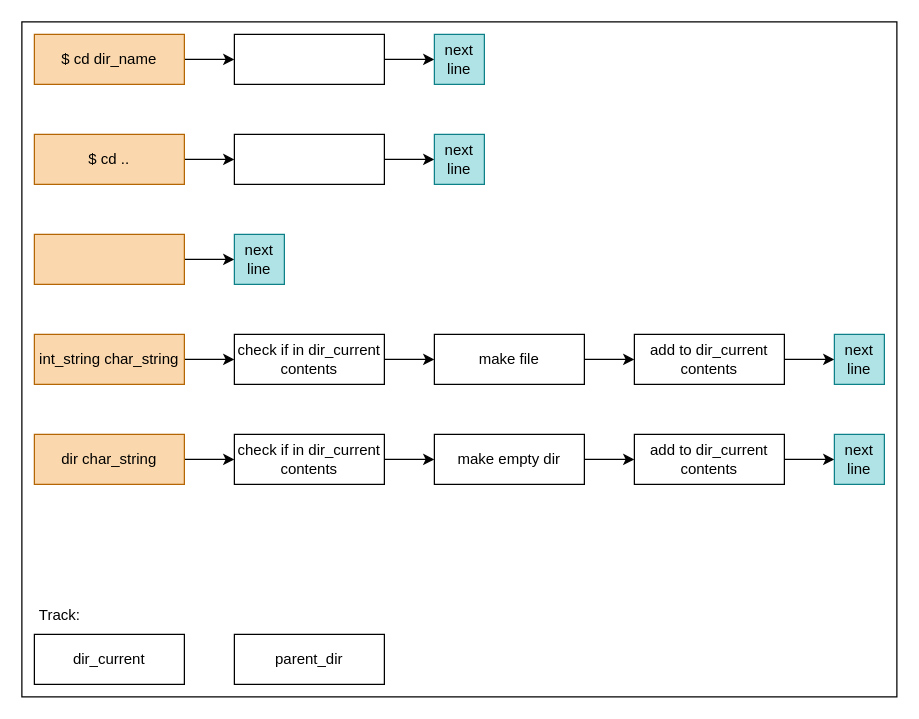
This 919x719 diagram has some shape labels left out. The shapes that lost their labels are listed below. From the top down, each one's centre as x and y in pixels, then its label:
the point at 308,58: dir_current = dir in contents with dir_name
the point at 308,158: dir_current = parent_dir
the point at 108,258: $ ls
